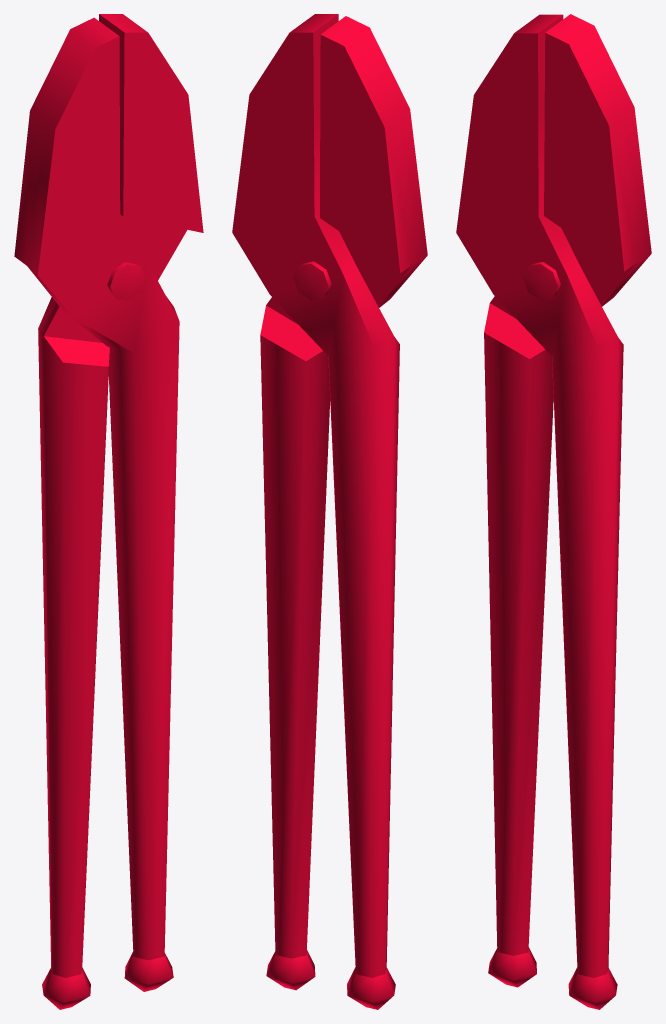
The model's file is Tools_Tongs_02.fbx.
3 renders of one model, left to right at view 1: azimuth 30°, elevation 25°; view 2: azimuth 150°, elevation 25°; view 3: azimuth 330°, elevation 25°, orthographic.
Visible parts, largest first — view 1: Tools_Tongs_02; view 2: Tools_Tongs_02; view 3: Tools_Tongs_02.
Part boxes in pixels (bbox=[...]): Tools_Tongs_02: bbox=[14, 14, 203, 1009]; Tools_Tongs_02: bbox=[232, 14, 427, 1009]; Tools_Tongs_02: bbox=[456, 14, 651, 1009].
Size of the model in its own units: 36.73 by 202 by 13.57.
